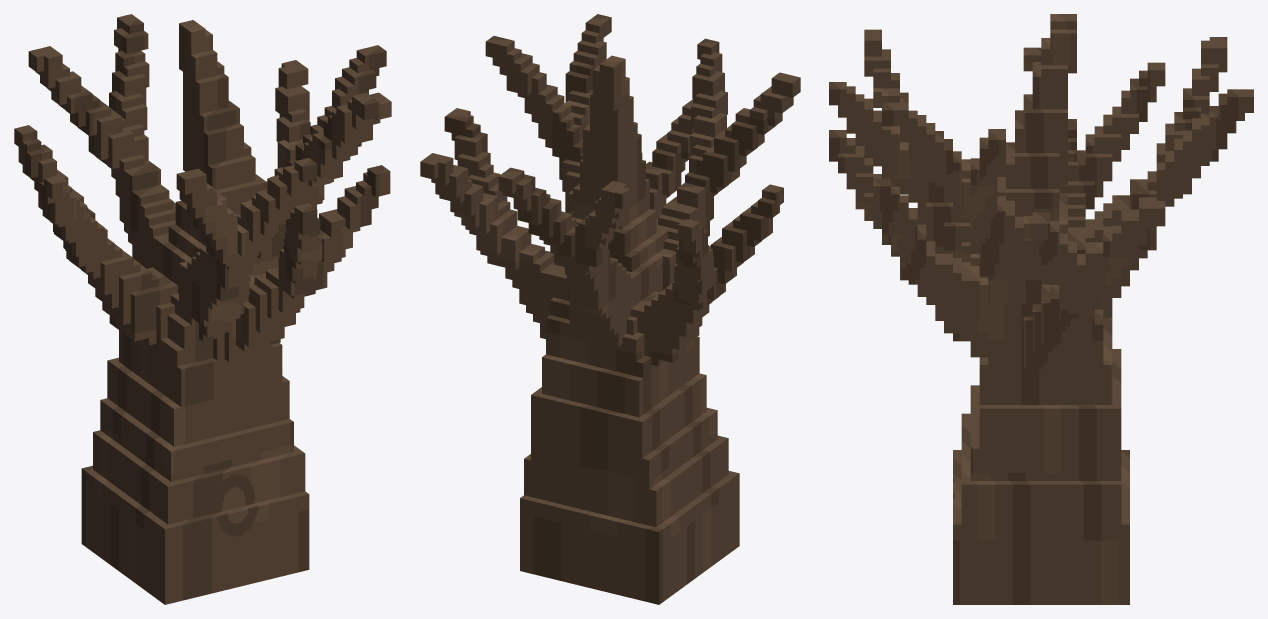
The model's file is apple_ancient_winter_3.glb.
The picture shows the model from 3 angles, left to right: view 1: azimuth 30°, elevation 25°; view 2: azimuth 150°, elevation 25°; view 3: azimuth 270°, elevation 25°; orthographic projection. The views are drawn at different scales.
Visible parts, largest first — view 1: VoxelVisual; view 2: VoxelVisual; view 3: VoxelVisual.
Boxes of the visible parts, bbox=[...] form: VoxelVisual: bbox=[14, 14, 391, 604]; VoxelVisual: bbox=[420, 14, 800, 604]; VoxelVisual: bbox=[829, 14, 1253, 604].
Size of what is drawn, in the model's own units: 11.75 by 17.25 by 12.
